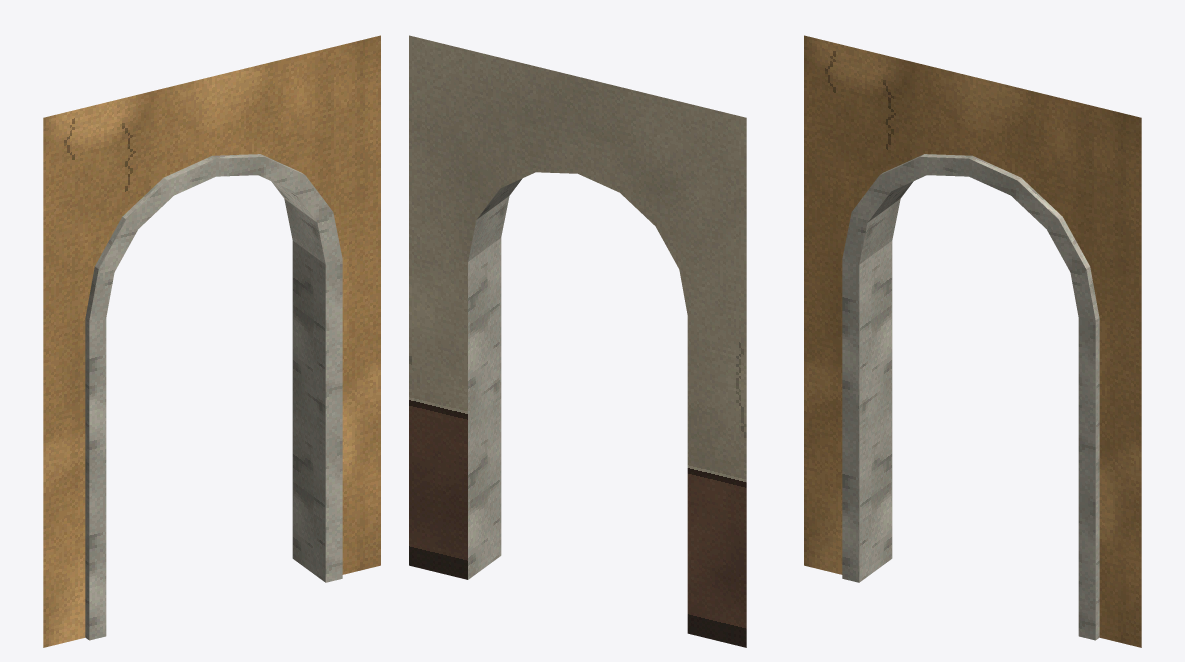
The model's file is ext_portal.gltf.
3 views of the same model, side by side, from view 1: azimuth 30°, elevation 25°; view 2: azimuth 150°, elevation 25°; view 3: azimuth 330°, elevation 25° (orthographic).
Parts seen in each view (by area): view 1: ext_portal; view 2: ext_portal; view 3: ext_portal.
Part boxes in pixels (bbox=[...]): ext_portal: bbox=[43, 35, 380, 647]; ext_portal: bbox=[409, 35, 746, 647]; ext_portal: bbox=[804, 35, 1141, 647].
Size of what is drawn, in the model's own units: 2 by 3 by 0.34.
Materials: 3 (3 with a texture image).
